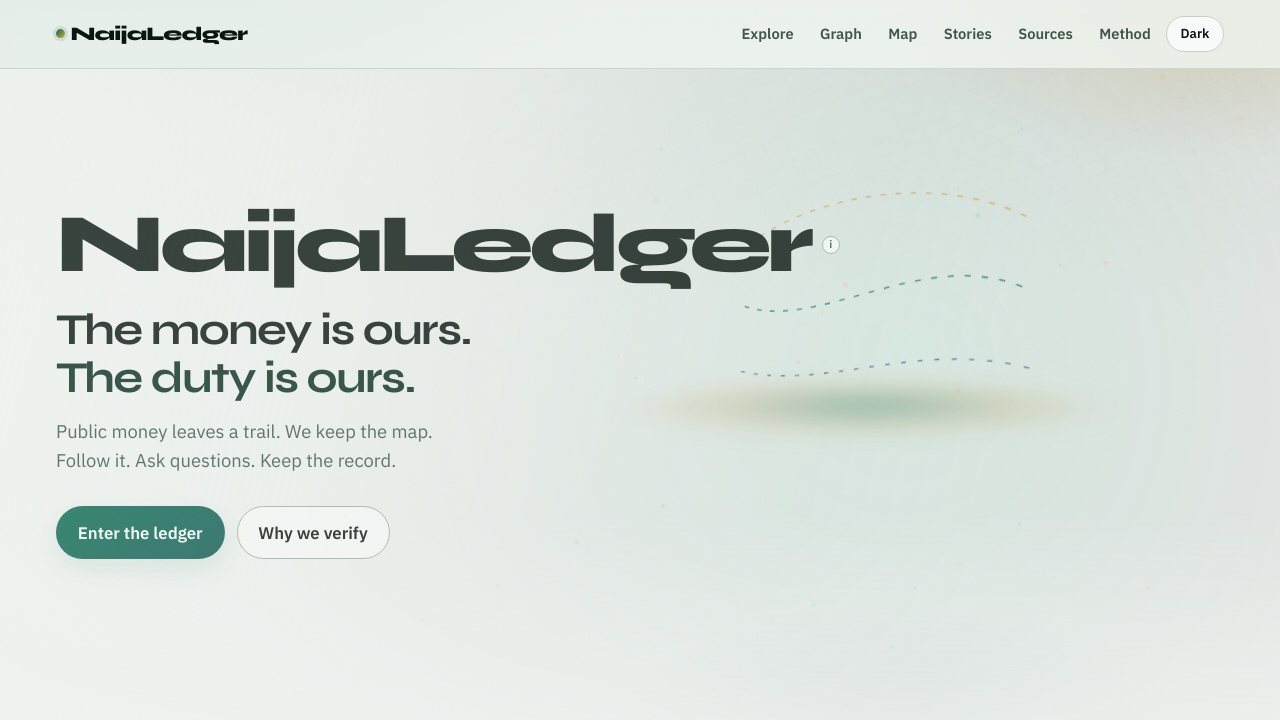
Test case: App routes › renders brand-first home and navigates to explore
Expected: the heading "The money is ours. The duty is ours." is shown, [56, 306, 511, 401]
Expected: the link "Enter the ledger" is shown, [56, 506, 224, 559]
Click the link "Explore" at (768, 33), box [741, 24, 794, 43]
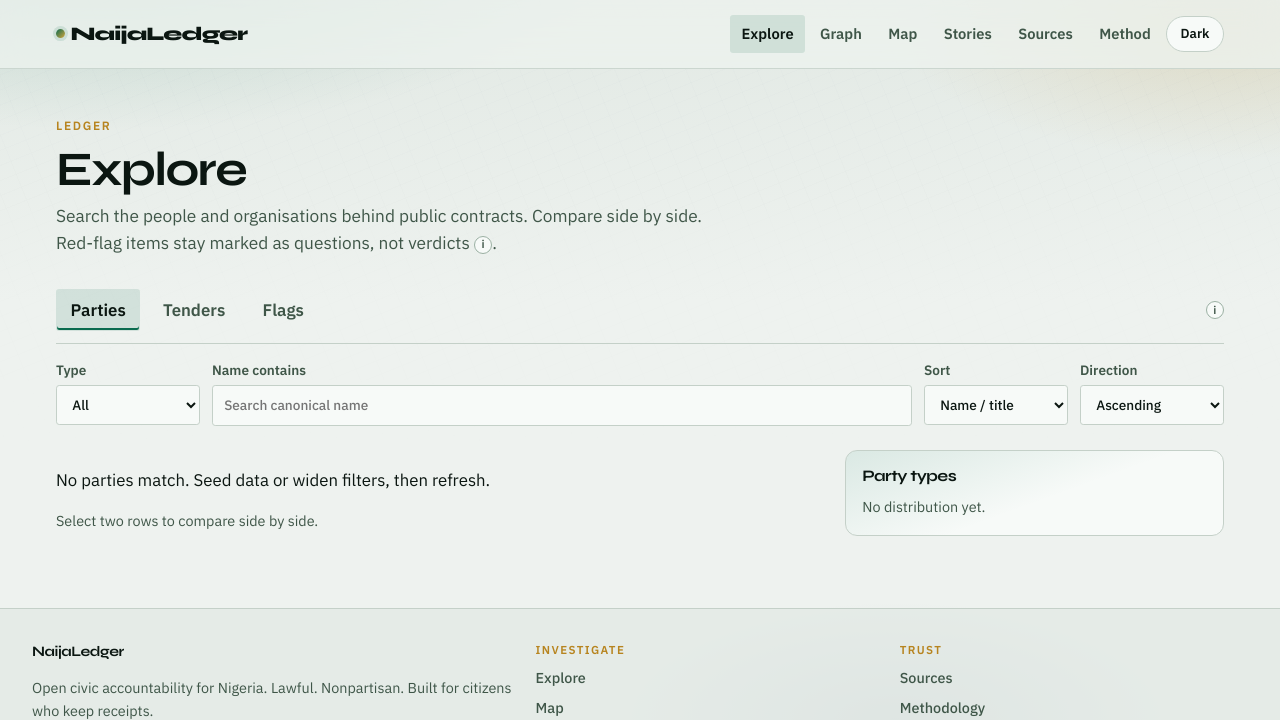
Expected: the heading "Explore" is shown, [56, 141, 246, 198]
Expected: the text "No parties match. Seed data or widen filters, then refresh." is shown, [56, 469, 490, 491]
Expected: the tab "Parties" is shown, [56, 289, 140, 331]
